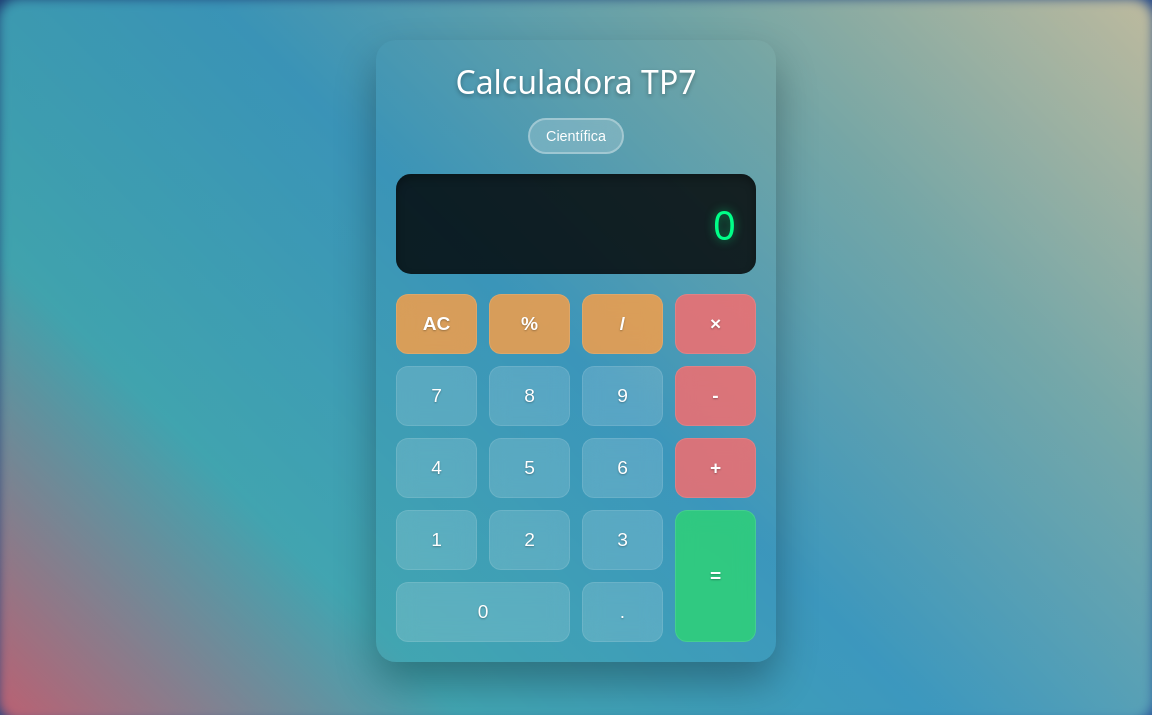
can toggle scientific mode
What coordinates should you click on to do the following:
click the button "Científica"
I would click on:
 (576, 136)
Its box is [528,118,624,154].
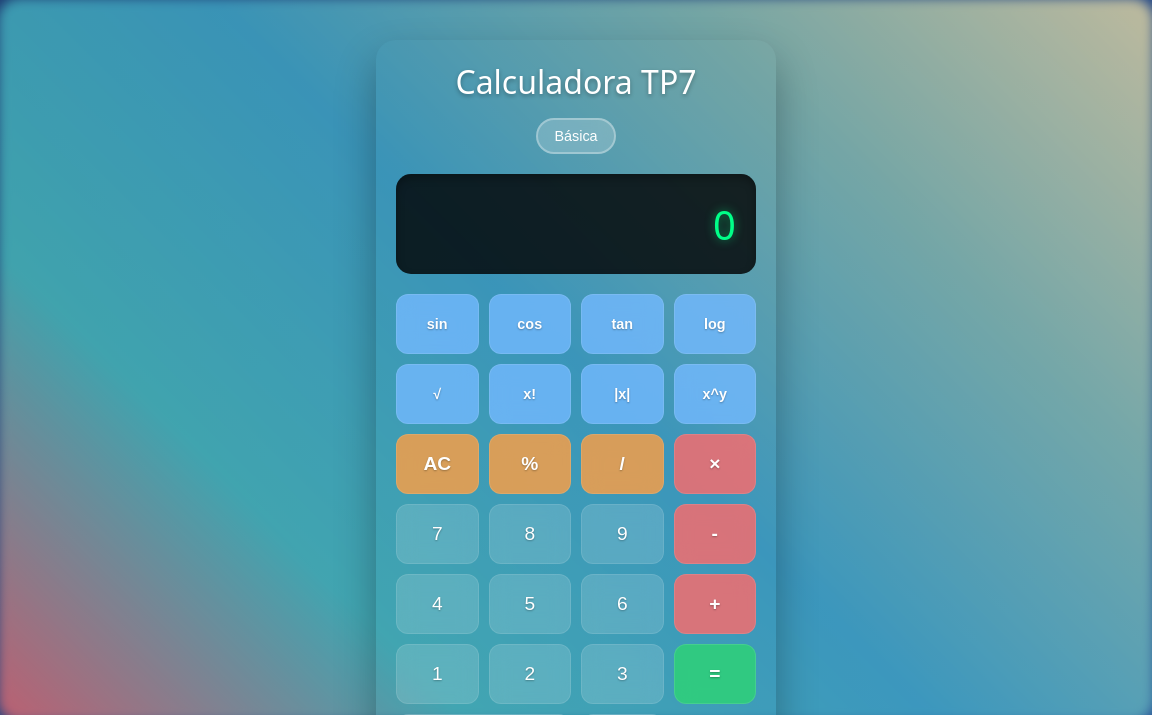
expect the button "sin" is shown: met, box [396,294,478,354]
expect the button "Básica" is shown: met, box [536,118,616,154]
